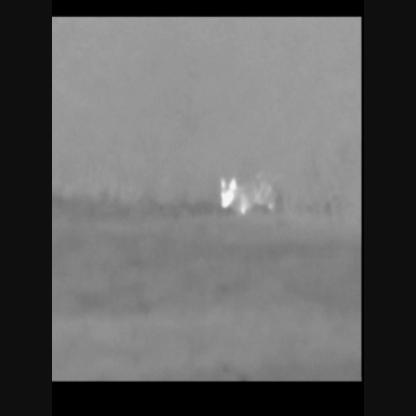rehkitze: (213, 176, 274, 217)
